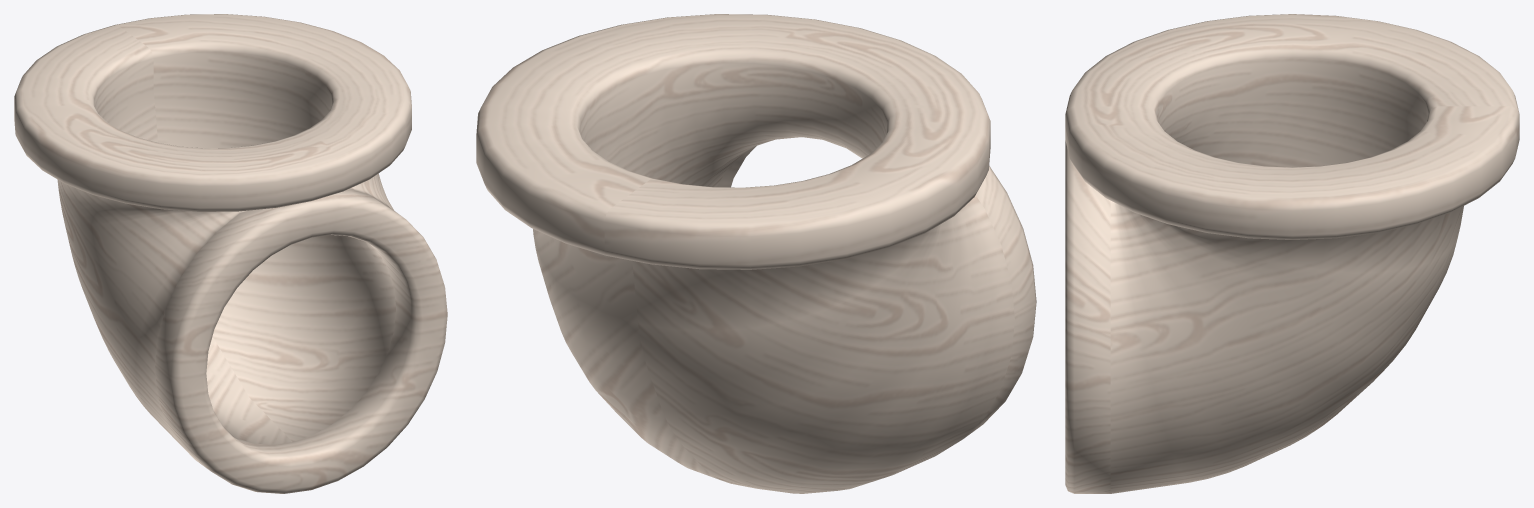
File: Pipe Exit.fbx
The picture shows the model from 3 angles, left to right: view 1: azimuth 30°, elevation 25°; view 2: azimuth 150°, elevation 25°; view 3: azimuth 270°, elevation 25°; orthographic projection. The views are drawn at different scales.
Visible parts, largest first — view 1: Cylinder.007, Cylinder.001; view 2: Cylinder.007, Cylinder.001; view 3: Cylinder.007, Cylinder.001.
Part boxes in pixels (bbox=[...]): Cylinder.007: bbox=[14, 52, 447, 493]; Cylinder.001: bbox=[14, 14, 411, 186]; Cylinder.007: bbox=[476, 63, 1036, 493]; Cylinder.001: bbox=[476, 14, 990, 236]; Cylinder.007: bbox=[1065, 57, 1519, 493]; Cylinder.001: bbox=[1065, 14, 1519, 210].
Size of the model in its own units: 200 by 180 by 200.
